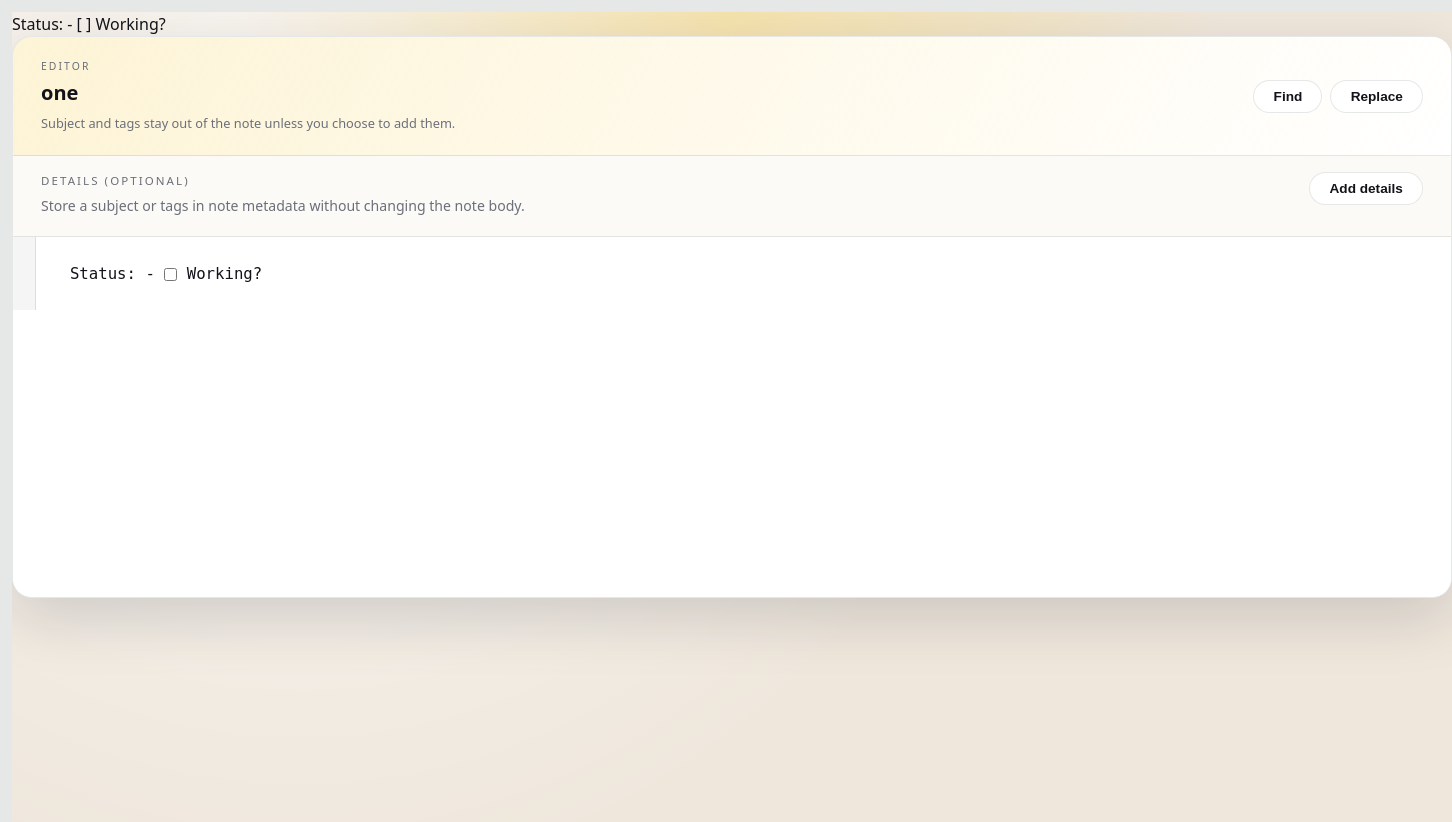
Test: NoteEditor checkbox interactions › toggles inline checkboxes from the editor widget in edit mode
Expected: the text with test id "note-value" reads "Status: - [ ] Working?", x1=12 y1=13 x2=166 y2=35
Press the mouse on the checkbox with class "md-checkbox" at {"x": 171, "y": 274}, box x1=164 y1=268 x2=177 y2=280
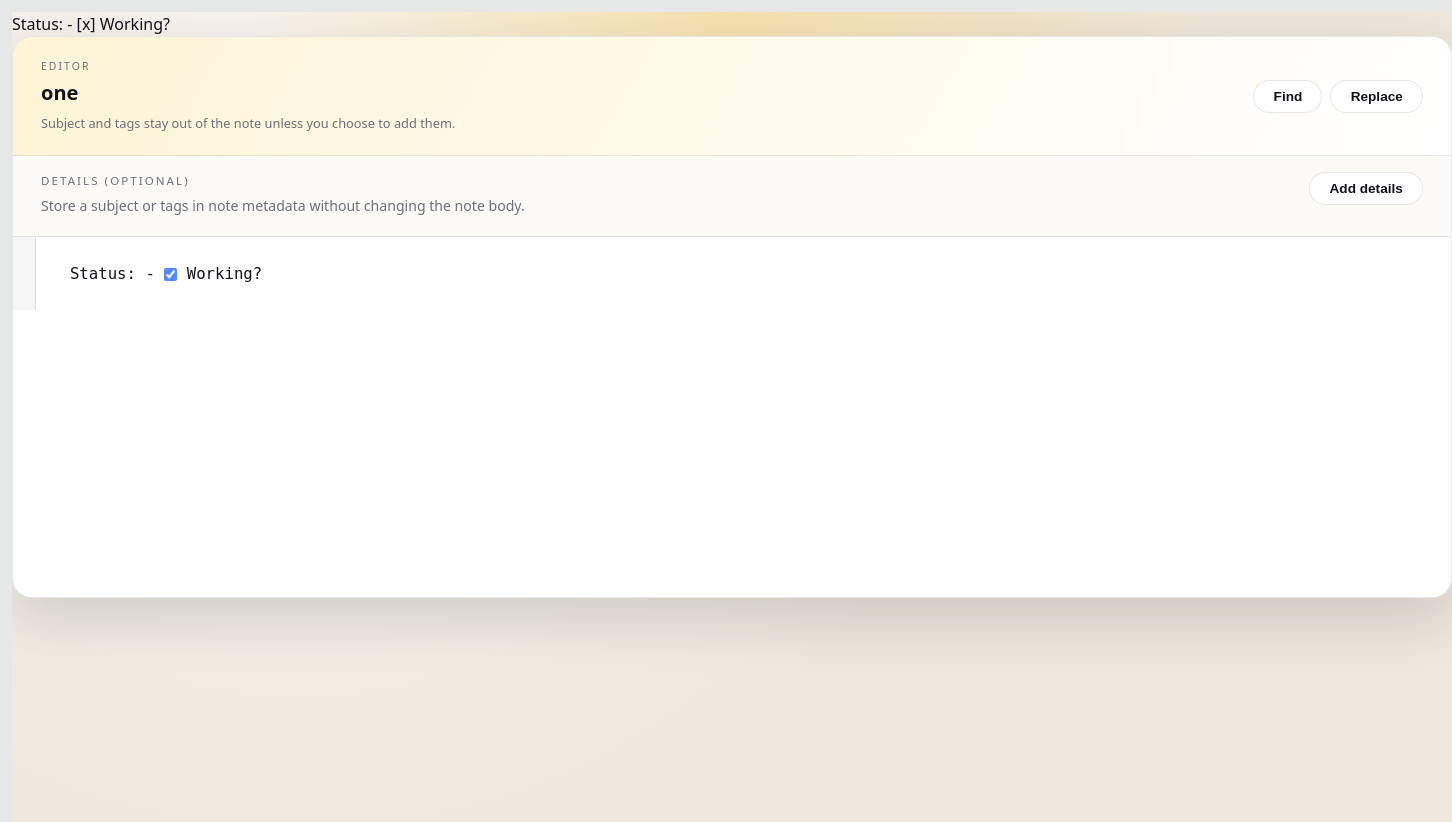
Now the text with test id "note-value" reads "Status: - [x] Working?", box x1=12 y1=13 x2=170 y2=35
